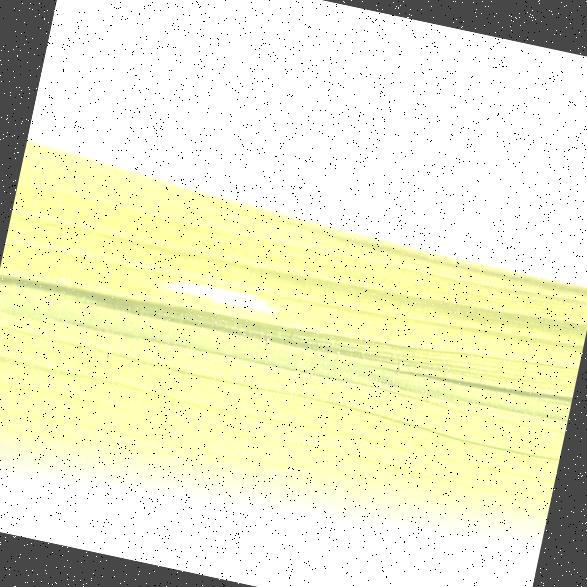Bacteria_Leaf_Blight: (95, 213, 371, 409)
